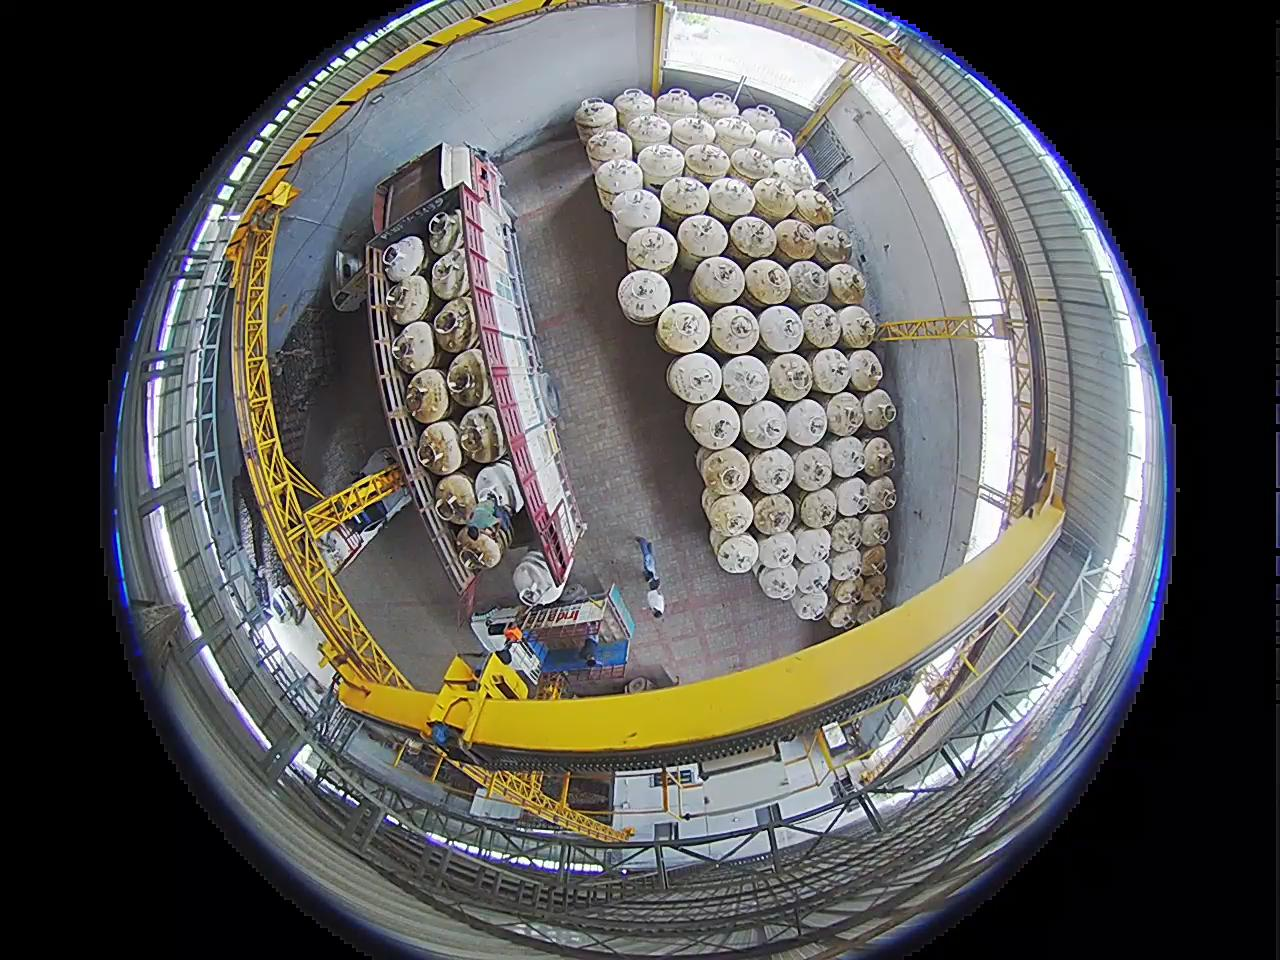cylinder: (612, 271, 688, 338), (666, 352, 722, 405), (690, 256, 745, 308), (687, 398, 741, 450), (710, 305, 762, 355), (720, 354, 770, 405), (416, 419, 465, 473), (405, 367, 452, 422), (741, 399, 790, 450), (676, 214, 729, 261), (433, 296, 478, 352), (625, 226, 675, 274), (744, 258, 794, 307), (612, 189, 660, 239), (699, 447, 750, 495), (757, 306, 806, 354), (392, 321, 435, 374), (386, 275, 430, 327), (750, 446, 797, 493), (707, 175, 756, 221), (596, 155, 644, 201), (659, 175, 709, 220), (768, 354, 814, 400), (637, 141, 685, 186), (382, 236, 426, 284), (432, 473, 477, 521), (429, 247, 470, 299), (707, 493, 754, 537), (585, 128, 632, 172), (729, 215, 776, 258), (785, 398, 828, 445), (786, 260, 830, 305), (790, 446, 834, 491), (751, 492, 795, 535), (573, 96, 617, 140), (774, 219, 819, 261), (810, 348, 853, 393), (751, 176, 796, 219), (683, 142, 731, 183), (669, 115, 717, 155), (799, 304, 842, 348), (824, 391, 865, 437), (826, 262, 868, 306), (798, 487, 840, 530), (655, 87, 698, 128), (837, 305, 877, 349), (827, 435, 868, 479), (717, 533, 760, 574), (731, 144, 776, 183), (713, 115, 757, 153), (814, 226, 855, 267), (793, 188, 836, 227), (847, 349, 885, 392), (428, 210, 465, 255), (756, 531, 798, 570), (792, 526, 833, 566), (613, 89, 653, 128), (861, 388, 898, 430), (834, 476, 871, 517), (770, 157, 812, 194), (754, 128, 797, 163), (757, 564, 798, 600), (696, 92, 738, 127), (861, 437, 896, 476), (740, 104, 780, 137), (864, 475, 898, 513), (791, 586, 827, 621), (829, 515, 864, 553), (795, 560, 830, 595), (859, 512, 892, 549), (828, 549, 863, 582), (826, 598, 860, 629), (830, 576, 863, 606), (684, 402, 711, 439), (860, 545, 888, 577), (710, 530, 738, 561), (859, 572, 887, 601), (855, 599, 884, 625)
truck: (365, 144, 584, 586), (460, 599, 682, 706), (337, 455, 402, 565), (328, 229, 368, 354)
